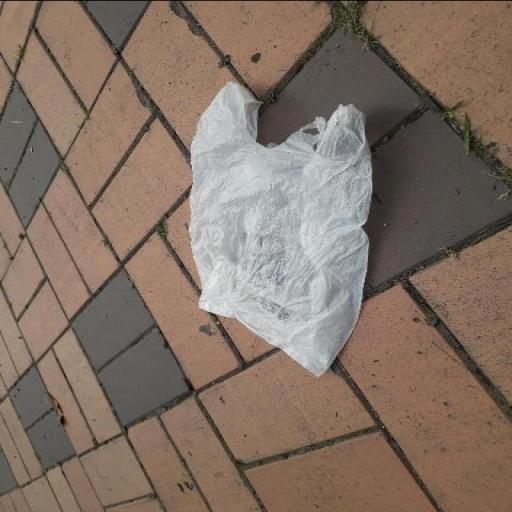plastic-bag: (185, 74, 378, 377)
